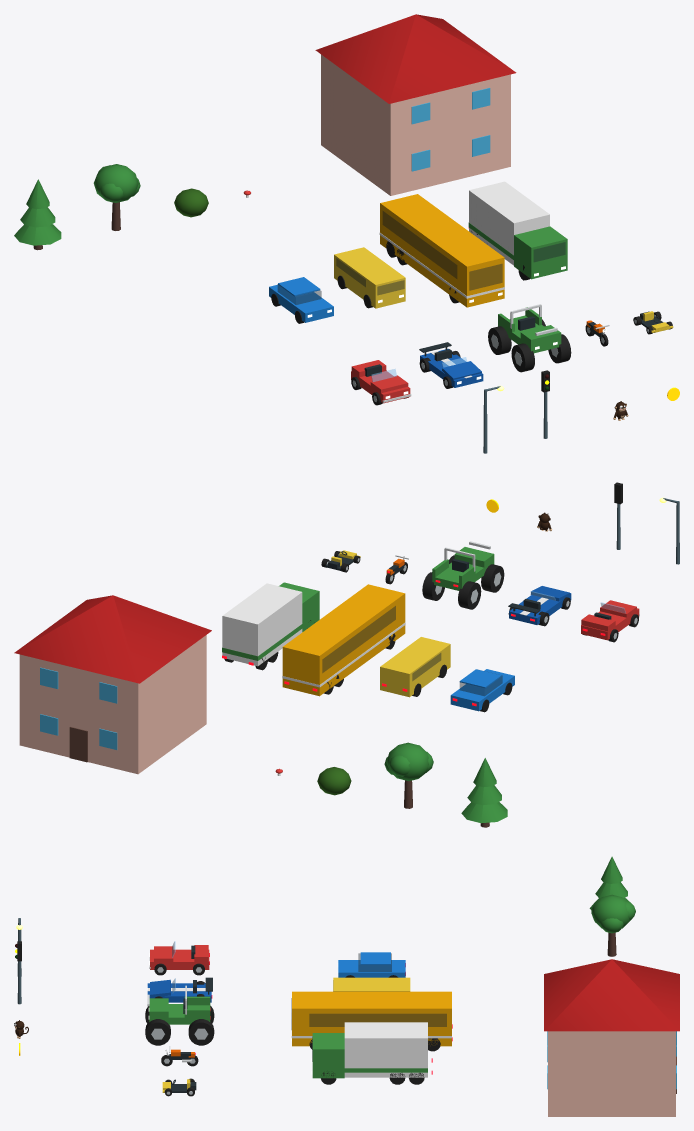
Rendered from spiel.glb.
3 renders of one model, top to bottom at view 1: azimuth 30°, elevation 25°; view 2: azimuth 150°, elevation 25°; view 3: azimuth 270°, elevation 25°, orthographic. The views are drawn at different scales.
Visible parts, largest first — view 1: Haus_Waende, Haus_Dach, Bus, Laster, Kleinbus, Monstertruck_Karosserie, Auto, Tanne, Cabrio_Karosserie, Sportwagen_Karosserie, Haus, Laubbaum_Krone (+1 smaller); view 2: Haus_Waende, Haus_Dach, Bus, Laster, Kleinbus, Monstertruck_Karosserie, Auto, Tanne, Cabrio_Karosserie, Sportwagen_Karosserie, Haus, Laubbaum_Krone (+4 smaller); view 3: Haus_Waende, Haus_Dach, Bus, Laster, Monstertruck_Karosserie, Auto, Cabrio_Karosserie, Kleinbus, Sportwagen_Karosserie, Laubbaum_Krone, Tanne, Monstertruck_Rad_hinten_4 (+2 smaller).
Boxes of the visible parts, x1,y1,x2,y2 form: Haus_Waende: [321, 54, 510, 195]; Haus_Dach: [315, 14, 516, 103]; Bus: [379, 194, 504, 307]; Laster: [468, 181, 567, 279]; Kleinbus: [334, 247, 405, 308]; Monstertruck_Karosserie: [498, 304, 561, 353]; Auto: [269, 277, 333, 322]; Tanne: [14, 179, 61, 245]; Cabrio_Karosserie: [351, 360, 411, 403]; Sportwagen_Karosserie: [419, 342, 483, 387]; Haus: [411, 87, 490, 171]; Laubbaum_Krone: [93, 164, 138, 202]; Haus_Waende: [19, 635, 206, 774]; Haus_Dach: [14, 595, 211, 683]; Bus: [282, 584, 405, 696]; Laster: [222, 582, 319, 666]; Kleinbus: [380, 637, 450, 697]; Monstertruck_Karosserie: [432, 541, 494, 590]; Auto: [450, 669, 514, 711]; Tanne: [461, 758, 507, 823]; Cabrio_Karosserie: [581, 600, 639, 640]; Sportwagen_Karosserie: [508, 586, 571, 624]; Haus: [40, 667, 117, 749]; Laubbaum_Krone: [386, 742, 428, 781]; Haus_Waende: [548, 1031, 675, 1116]; Haus_Dach: [544, 959, 679, 1031]; Bus: [291, 991, 452, 1046]; Laster: [311, 1022, 432, 1078]; Monstertruck_Karosserie: [147, 985, 210, 1024]; Auto: [337, 952, 405, 977]; Cabrio_Karosserie: [149, 941, 209, 969]; Kleinbus: [333, 977, 410, 991]; Sportwagen_Karosserie: [147, 977, 212, 1002]; Laubbaum_Krone: [591, 894, 629, 928]; Tanne: [589, 856, 628, 909]; Monstertruck_Rad_hinten_4: [188, 1019, 214, 1045].
Size of the model in its own units: 30.73 by 9.3 by 41.6.
